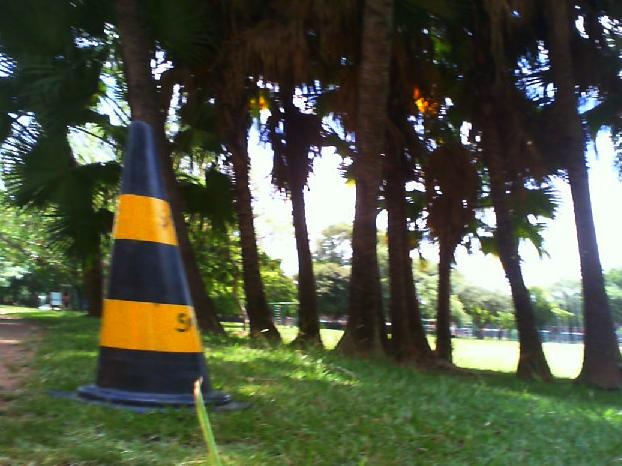0 cone: (45, 121, 254, 415)
